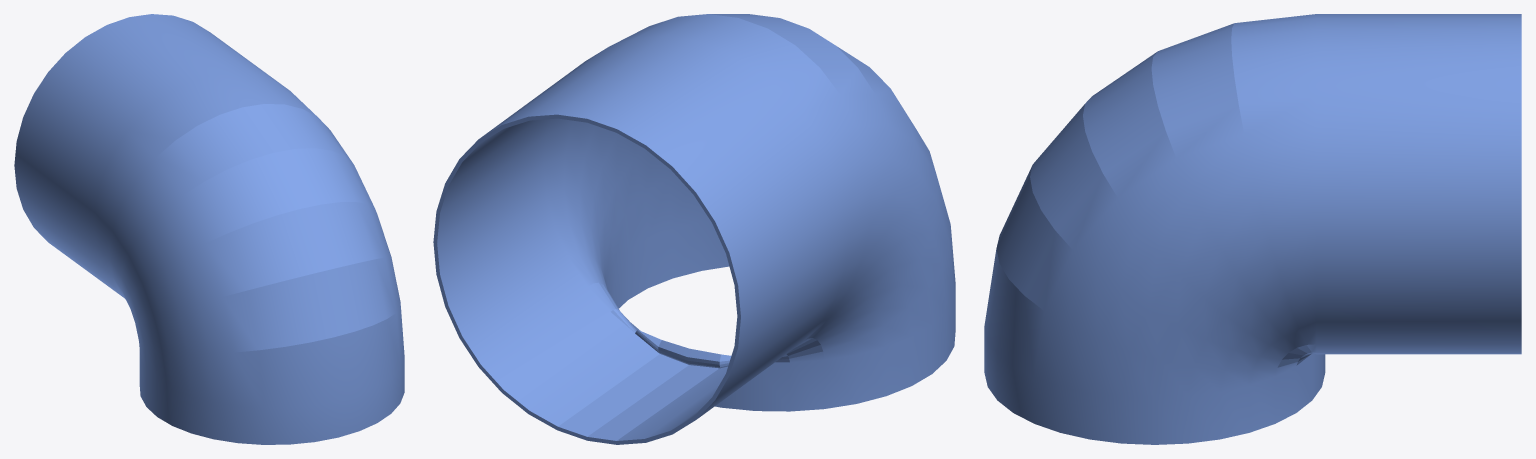
The model's file is üstkıvrım.fbx.
3 views of the same model, side by side, from view 1: azimuth 30°, elevation 25°; view 2: azimuth 150°, elevation 25°; view 3: azimuth 270°, elevation 25° (orthographic). The views are drawn at different scales.
Parts seen in each view (by area): view 1: Cylinder.005; view 2: Cylinder.005; view 3: Cylinder.005.
Boxes of the visible parts, left/top/right/bottom form: Cylinder.005: left=14, top=14, right=404, bottom=444; Cylinder.005: left=433, top=14, right=955, bottom=444; Cylinder.005: left=984, top=14, right=1521, bottom=444.
Bounding box in the file's own units: 166 × 184 × 261.
